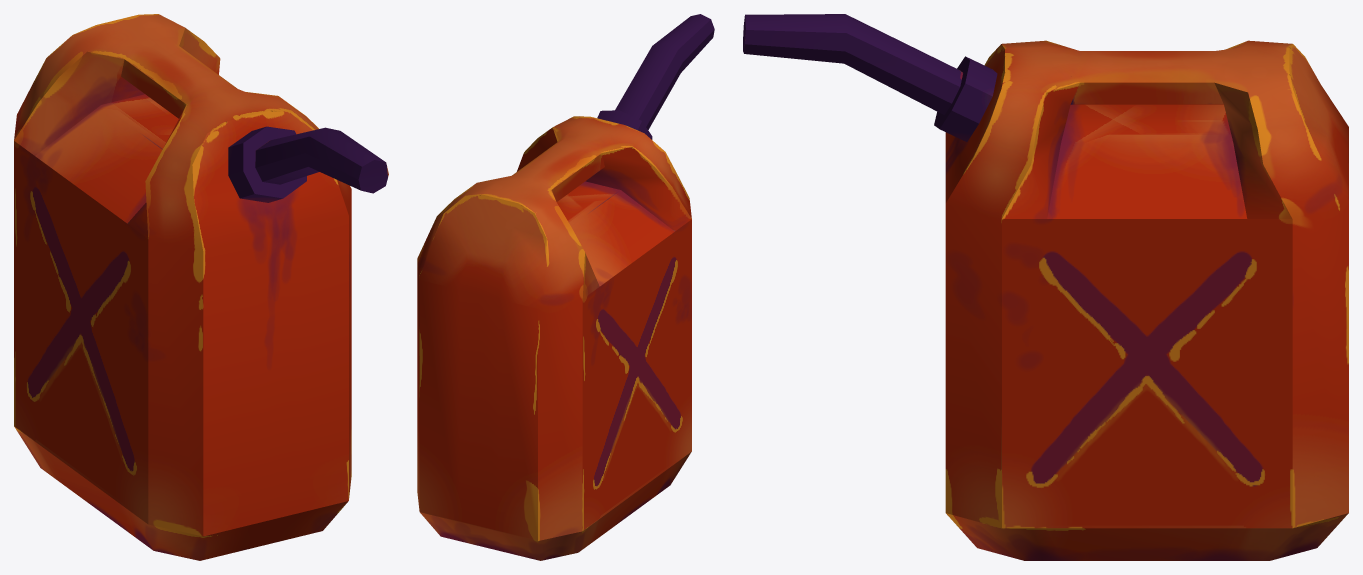
The model's file is galão gasolinafbx.fbx.
The picture shows the model from 3 angles, left to right: view 1: azimuth 30°, elevation 25°; view 2: azimuth 150°, elevation 25°; view 3: azimuth 270°, elevation 25°; orthographic projection. The views are drawn at different scales.
Visible parts, largest first — view 1: Cube.002; view 2: Cube.002; view 3: Cube.002.
Part boxes in pixels (x1,y1,x2,y2): Cube.002: [14, 14, 388, 560]; Cube.002: [417, 14, 714, 560]; Cube.002: [743, 14, 1348, 560].
Size of the model in its own units: 101 by 220 by 241.
Materials: 1 (1 with a texture image).
